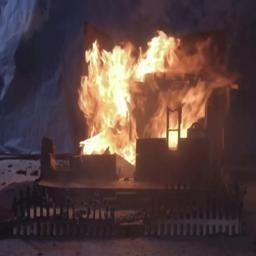fire: (75, 24, 224, 160)
